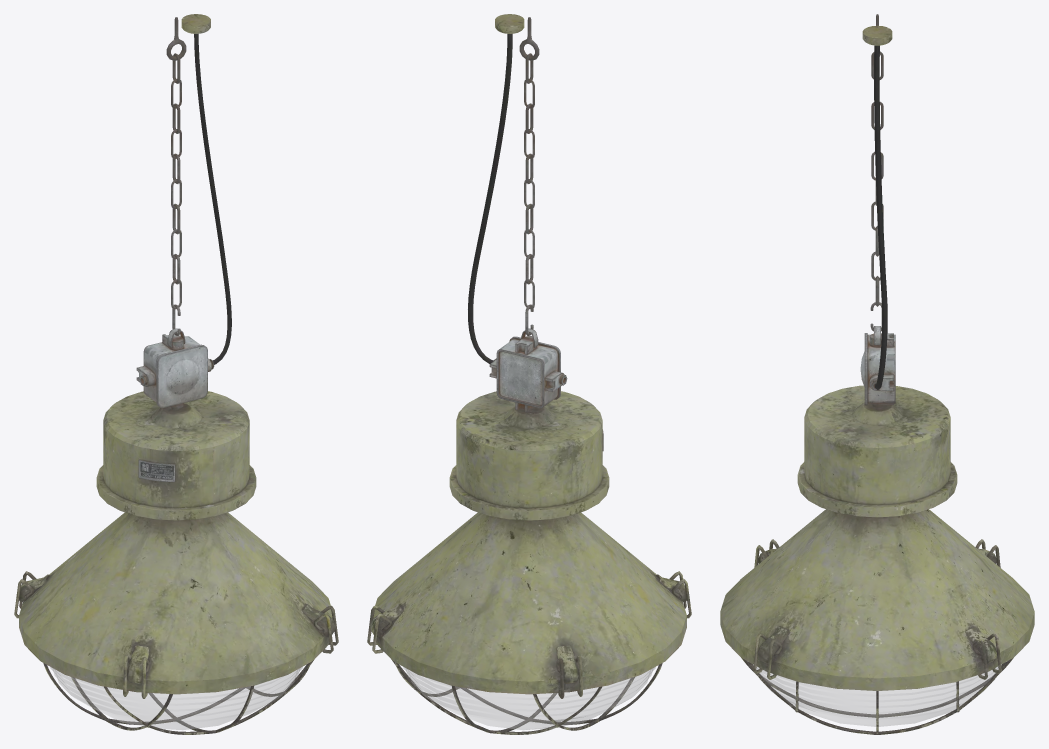
The model's file is hanging_industrial_lamp.glb.
3 renders of one model, left to right at view 1: azimuth 30°, elevation 25°; view 2: azimuth 150°, elevation 25°; view 3: azimuth 270°, elevation 25°, orthographic.
Parts seen in each view (by area): view 1: hanging_industrial_lamp; view 2: hanging_industrial_lamp; view 3: hanging_industrial_lamp.
Boxes of the visible parts, x1,y1,x2,y2 form: hanging_industrial_lamp: [14, 14, 338, 734]; hanging_industrial_lamp: [367, 14, 691, 734]; hanging_industrial_lamp: [720, 14, 1034, 734].
Bounding box in the file's own units: 0.5497 × 1.36 × 0.5497.
2 materials, 1 textured.
